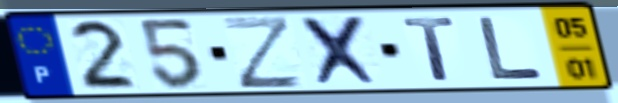2: (67, 17, 143, 93)
5: (136, 15, 206, 92)
L: (474, 15, 548, 82)
T: (398, 15, 460, 83)
X: (296, 13, 387, 88)
Z: (219, 13, 307, 91)
